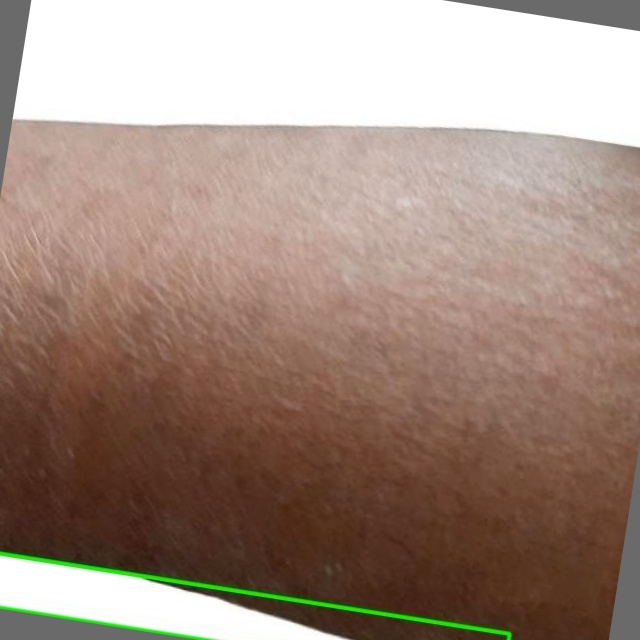Tinea Corporis: (0, 553, 510, 639)
